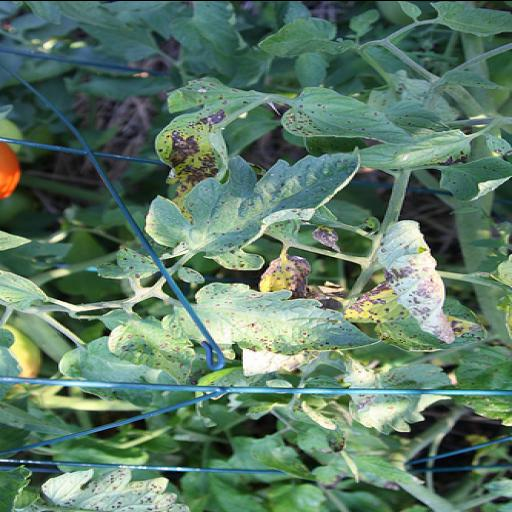Septoria: (142, 140, 363, 272), (160, 280, 382, 356), (153, 73, 263, 217), (373, 218, 460, 346), (342, 280, 488, 354), (342, 362, 460, 434), (276, 87, 420, 146), (33, 466, 194, 512), (105, 310, 203, 382), (354, 125, 472, 171), (258, 14, 354, 58), (435, 155, 512, 202), (430, 0, 512, 39), (256, 254, 312, 298), (94, 244, 162, 280), (0, 268, 50, 310)
